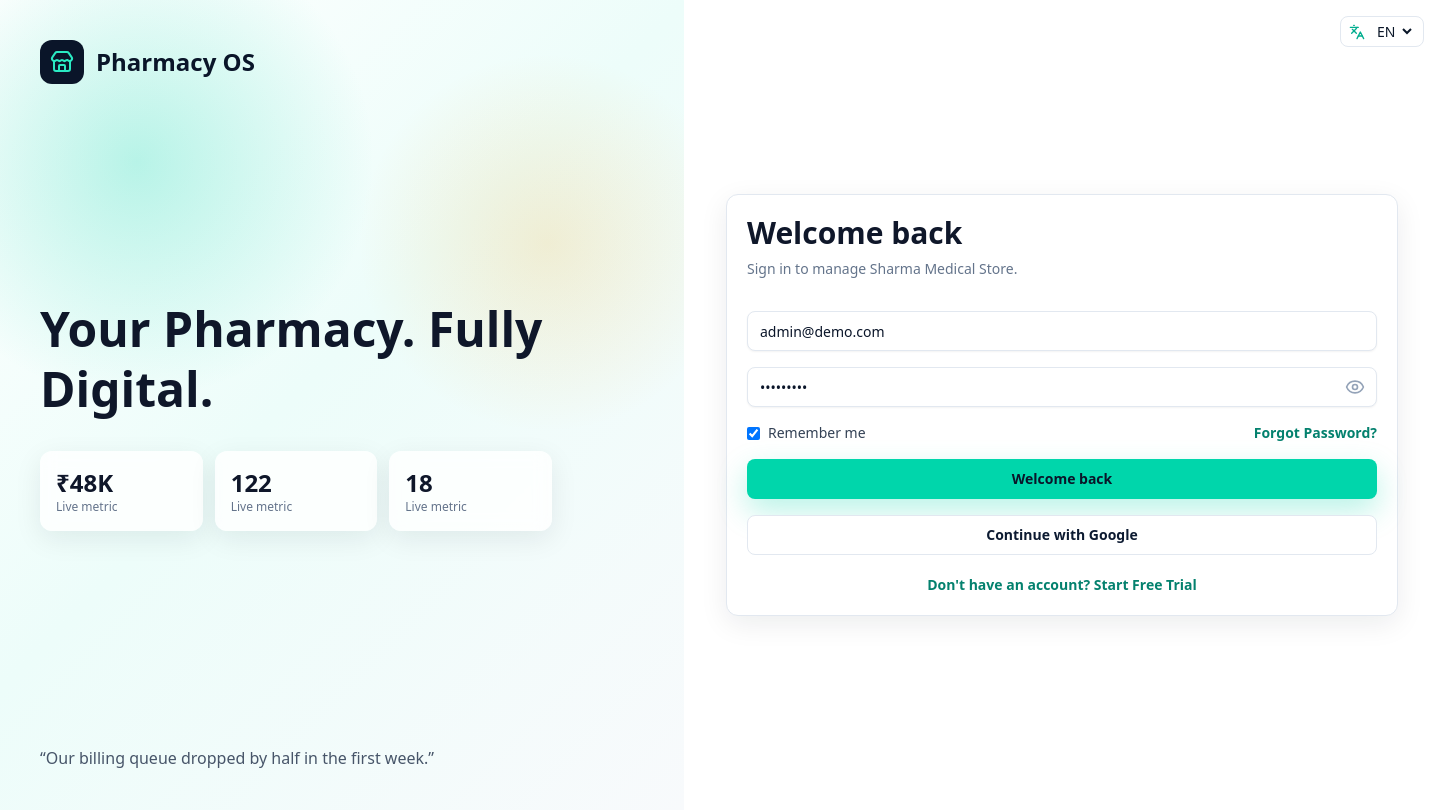
Test: LoginForm › shows invalid credential errors from the API
The width and height of the screenshot is (1440, 810).
Click the button "Welcome back".
click(1062, 479)  # box [747,459,1377,499]
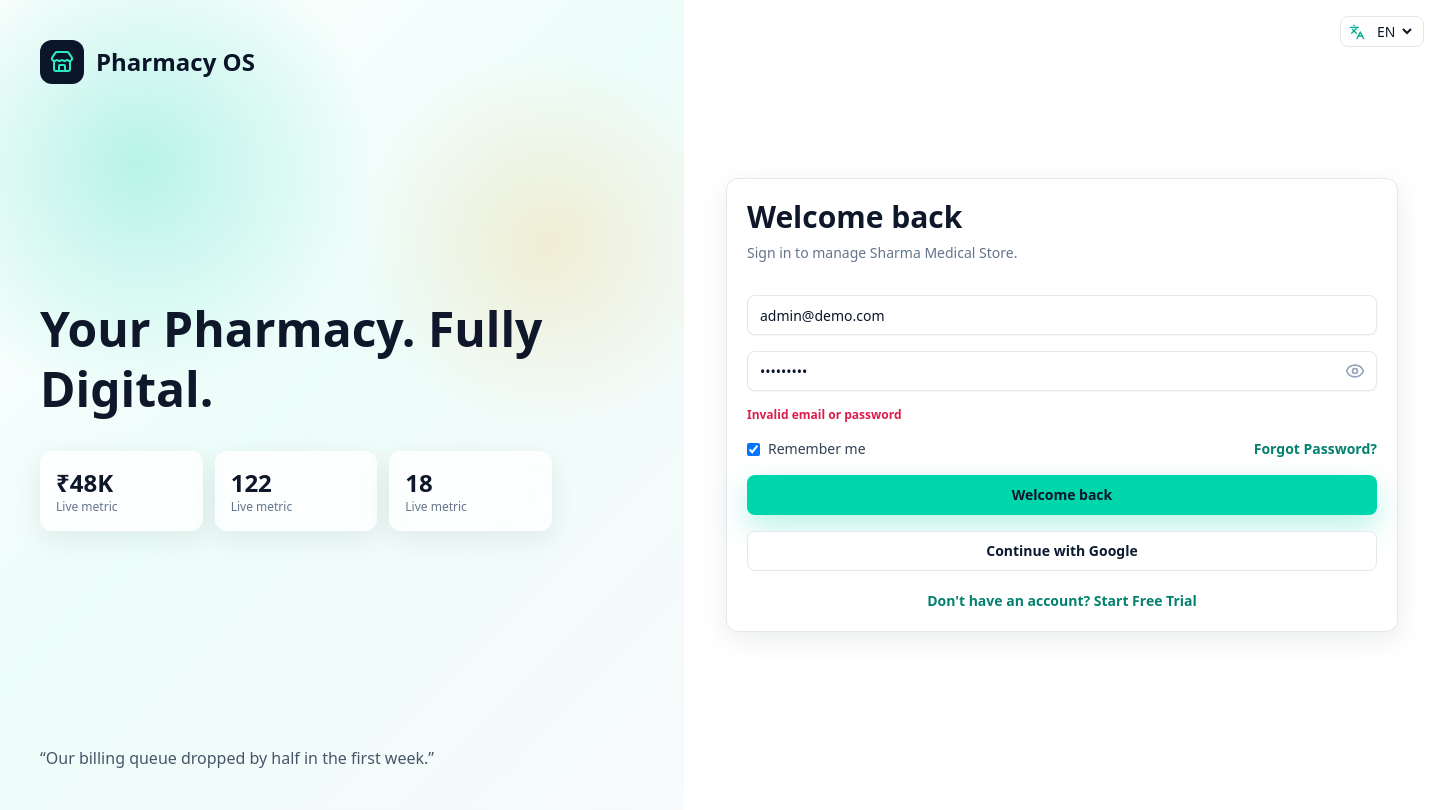
Expected: the message reads "Invalid email or password", [747,406,902,423]
